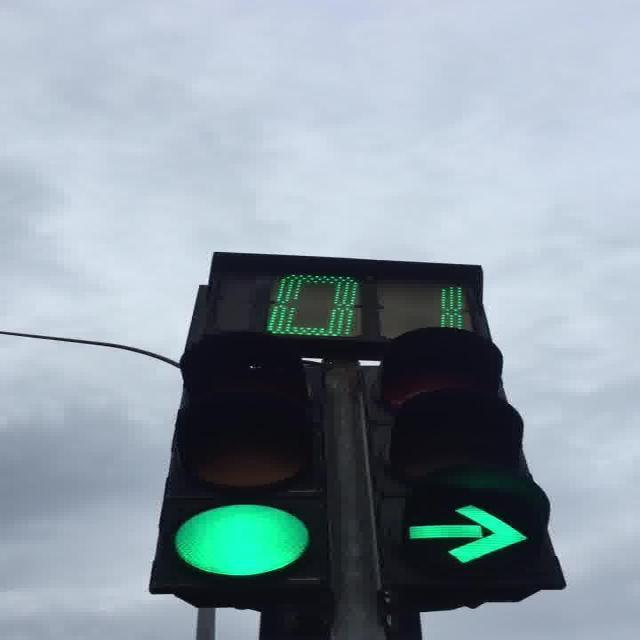green_light: (361, 326, 567, 594), (144, 330, 326, 592)
